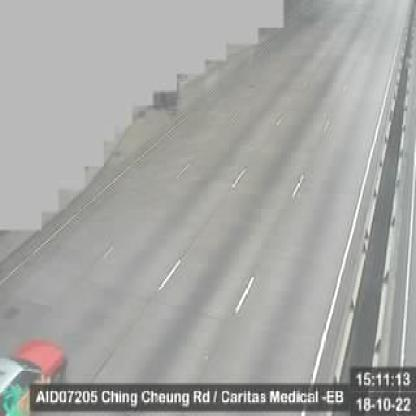Car: (0, 338, 69, 413)
